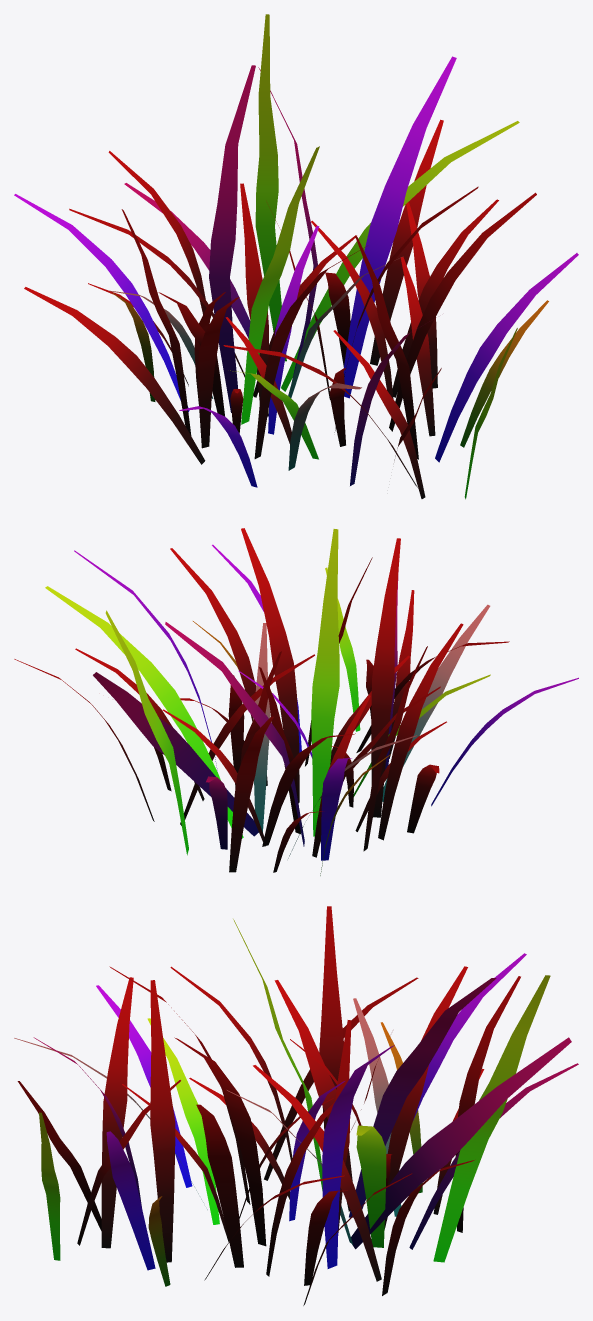
The model's file is Grass_HP_var1.fbx.
The picture shows the model from 3 angles, top to bottom: view 1: azimuth 30°, elevation 25°; view 2: azimuth 150°, elevation 25°; view 3: azimuth 270°, elevation 25°; orthographic projection. The views are drawn at different scales.
Parts seen in each view (by area): view 1: Grass_var1_LOD0; view 2: Grass_var1_LOD0; view 3: Grass_var1_LOD0.
Boxes of the visible parts, x1,y1,x2,y2 form: Grass_var1_LOD0: [14, 14, 578, 499]; Grass_var1_LOD0: [14, 528, 578, 875]; Grass_var1_LOD0: [14, 906, 578, 1305].
Size of what is drawn, in the model's own units: 1.26 by 0.7882 by 1.28.
